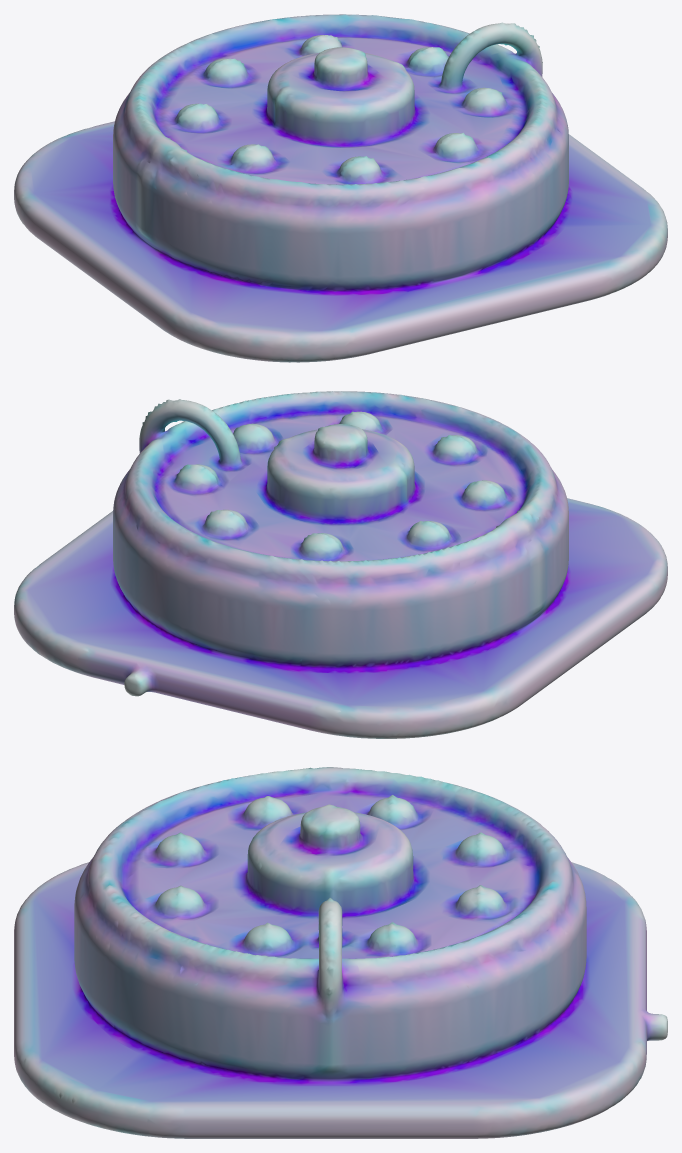
File: mine.glb
3 renders of one model, top to bottom at view 1: azimuth 30°, elevation 25°; view 2: azimuth 150°, elevation 25°; view 3: azimuth 270°, elevation 25°, orthographic. The views are drawn at different scales.
Visible parts, largest first — view 1: mine; view 2: mine; view 3: mine.
Boxes of the visible parts, x1=… form: mine: x1=14, y1=14, x2=667, y2=362; mine: x1=14, y1=391, x2=667, y2=738; mine: x1=14, y1=767, x2=667, y2=1138.
Size of the model in its own units: 0.4199 by 0.1438 by 0.434.
